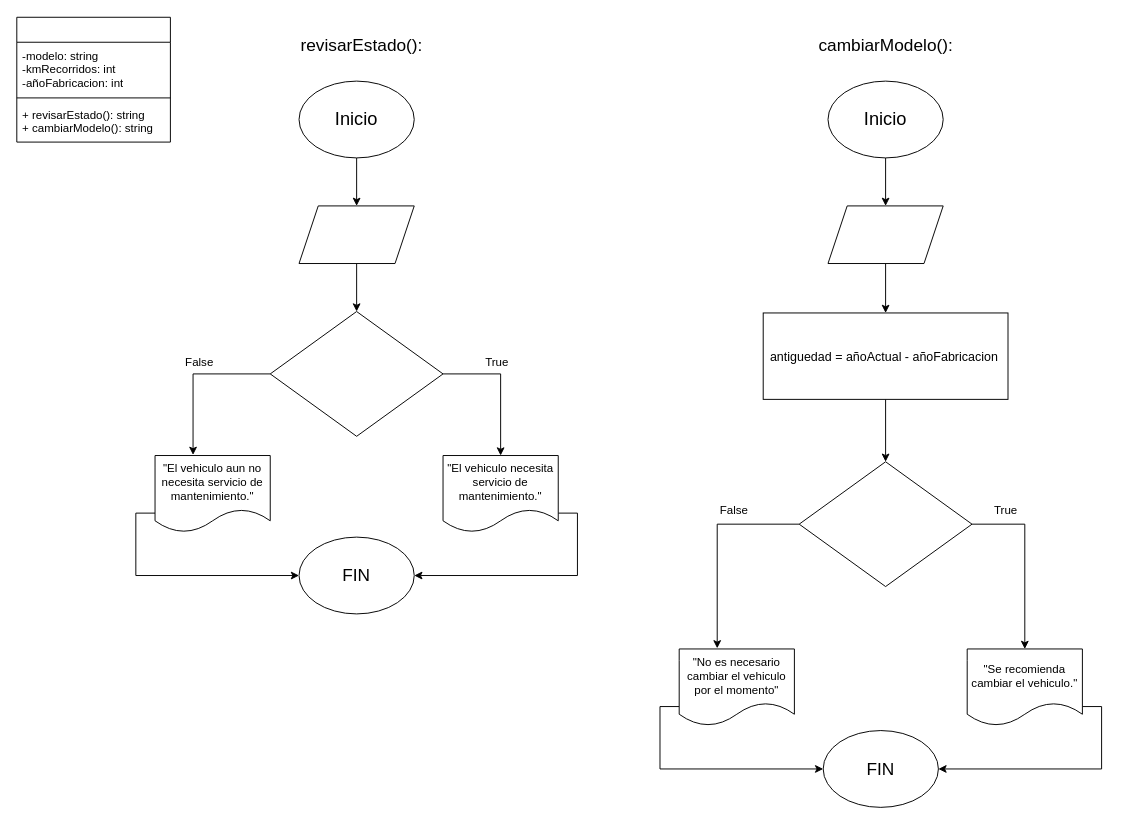
Image size: 1126x824. Some labels were removed from this diagram. Here are the shapes that lost their labels. From the top down, the box of each, then its label:
(16, 16, 170, 142): Vehiculo
(298, 205, 414, 264): kmRecorridos
(827, 205, 943, 264): añoActual
(269, 311, 443, 436): kmRecorridos >= 10.000km
(798, 461, 972, 587): antiguedad >= 3 años
